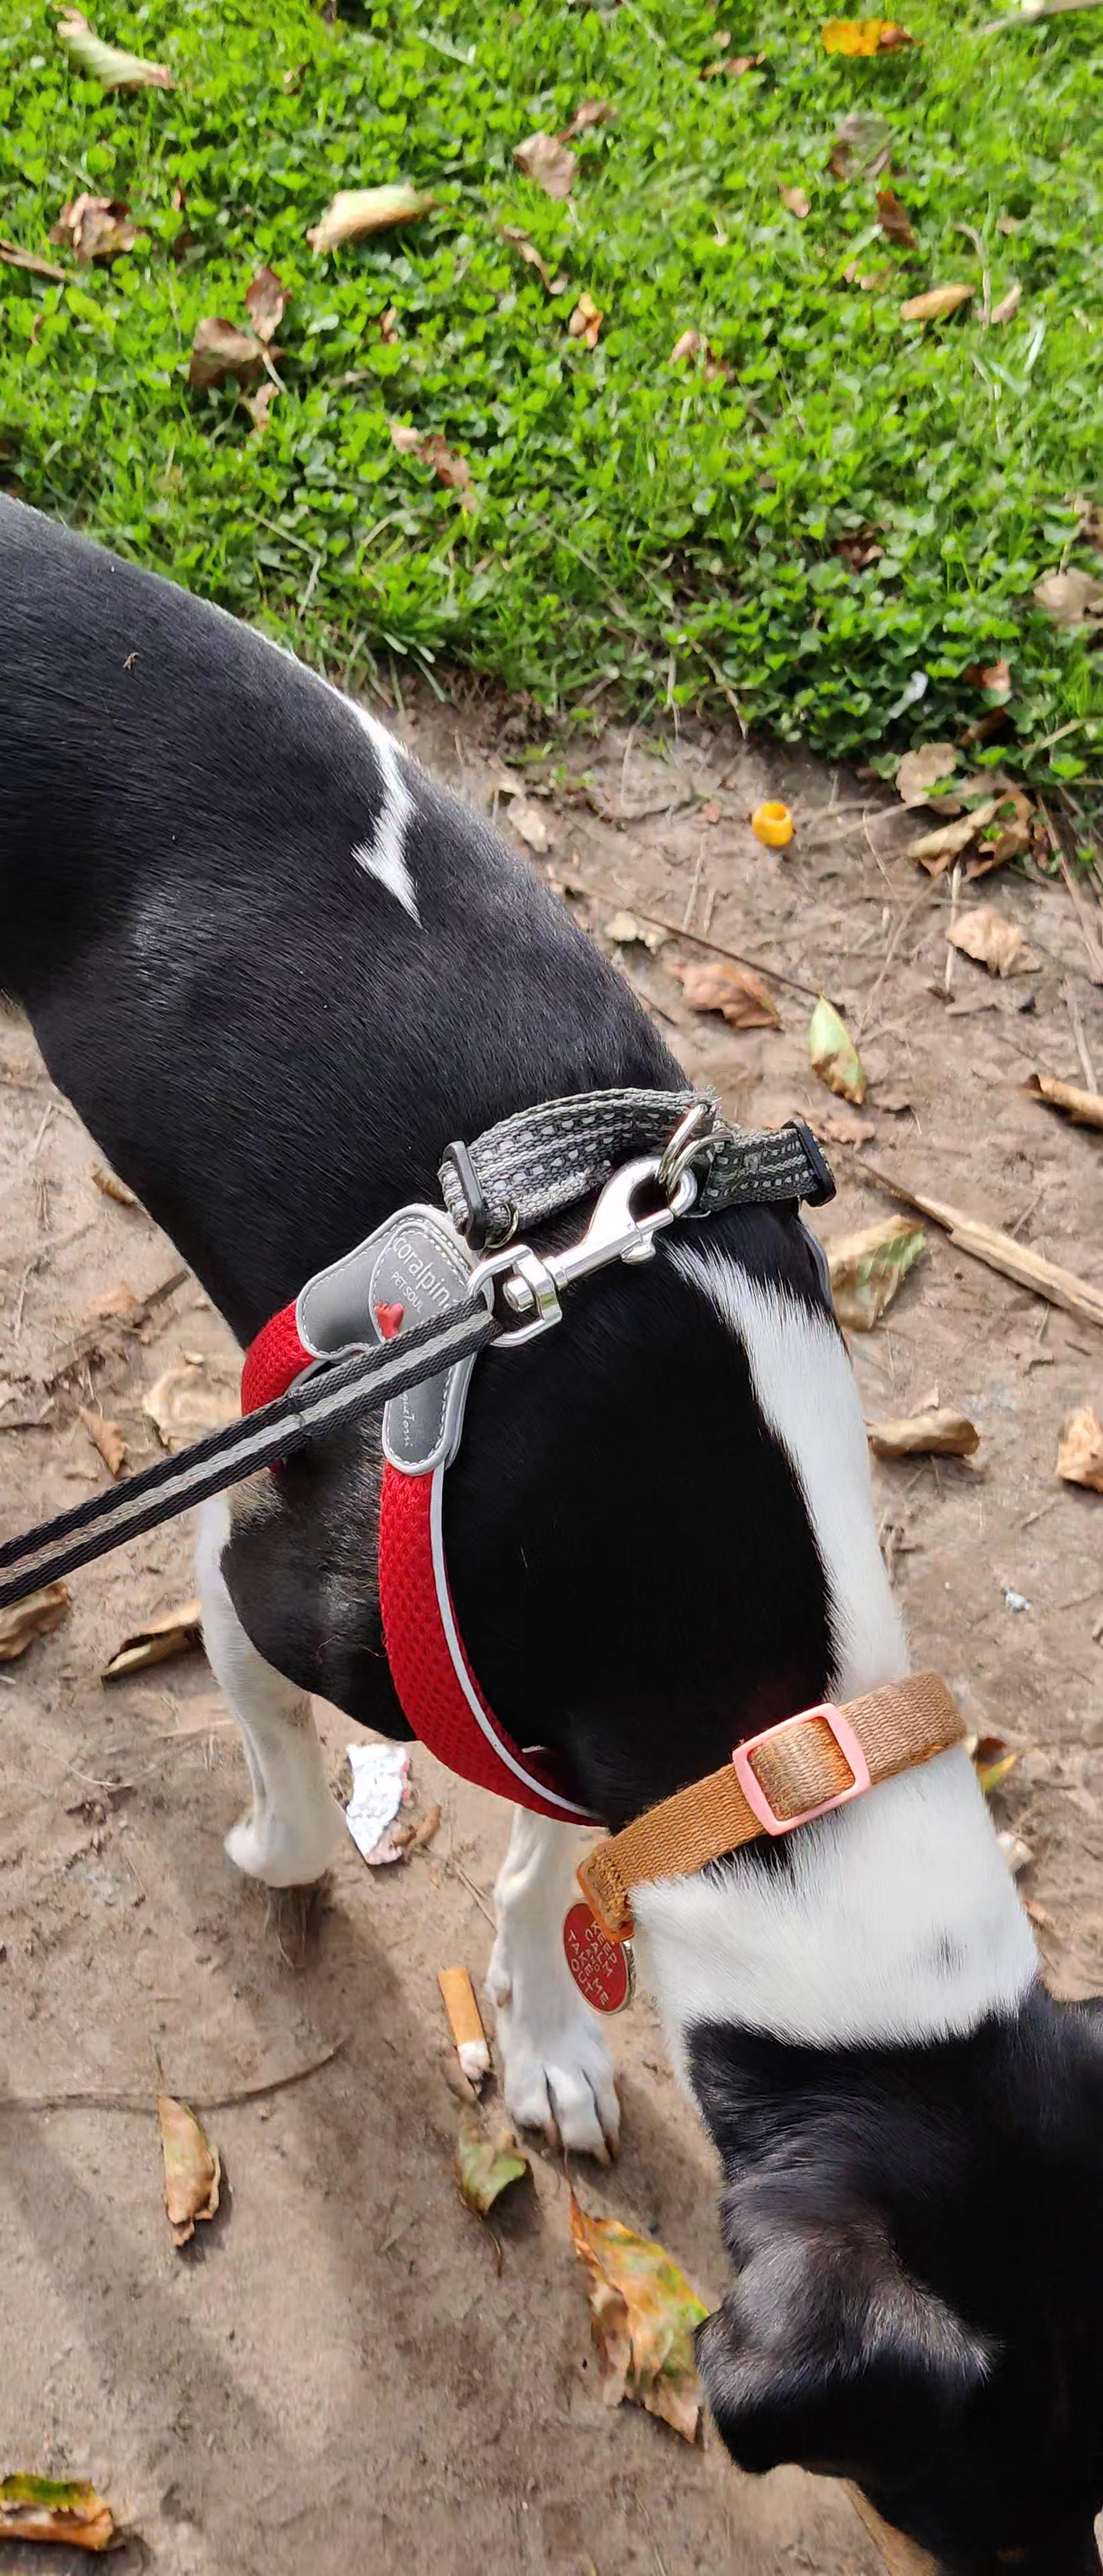Dog: (0, 463, 1103, 2576)
